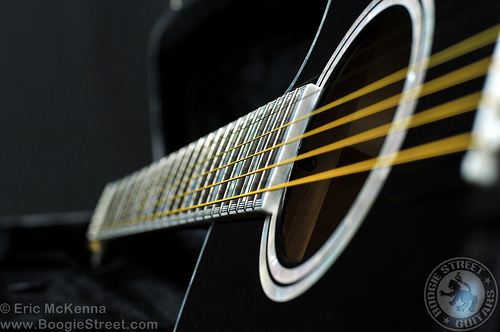guitar: (83, 1, 500, 332)
